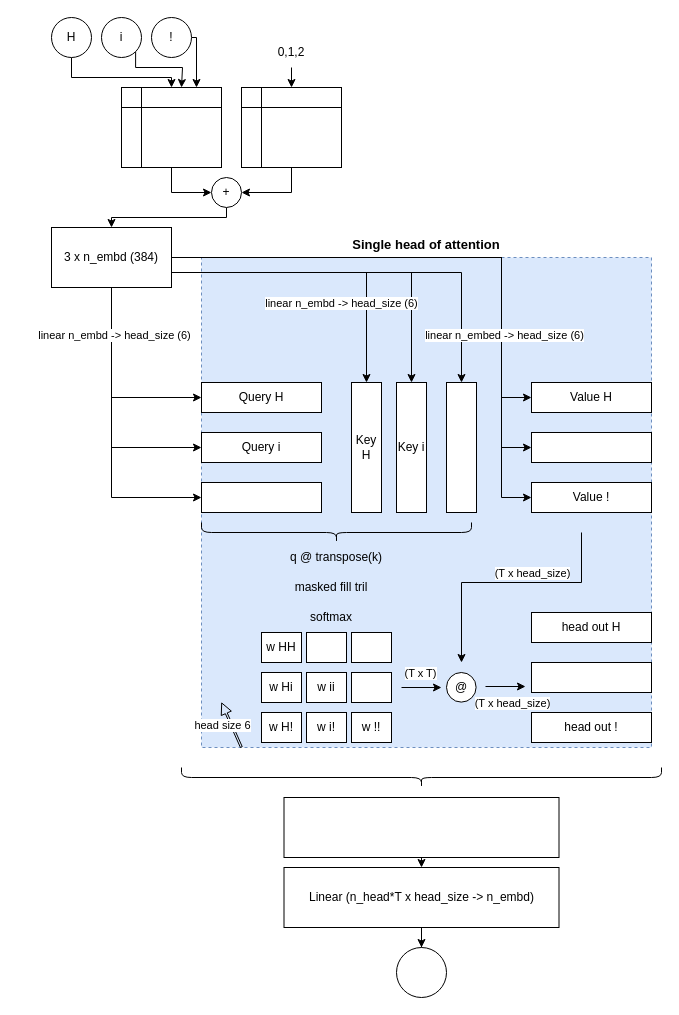
The diagram is 679 pixels wide and 1015 high, and some of its shapes have lost their labels. Here are the shapes that lost their labels. From the top down, the box of each, then its label:
(120, 86, 222, 168): Token Embedding Table
(240, 86, 342, 168): Positional Embedding Table
(446, 382, 476, 512): Key !
(530, 432, 652, 462): Value i
(200, 482, 322, 512): Query !
(530, 662, 652, 692): head out i
(180, 766, 662, 788): concat along token dimension
(283, 796, 559, 858): Multi Headed Attention (n_head*T x head_size)
(396, 946, 446, 998): output n_embd
